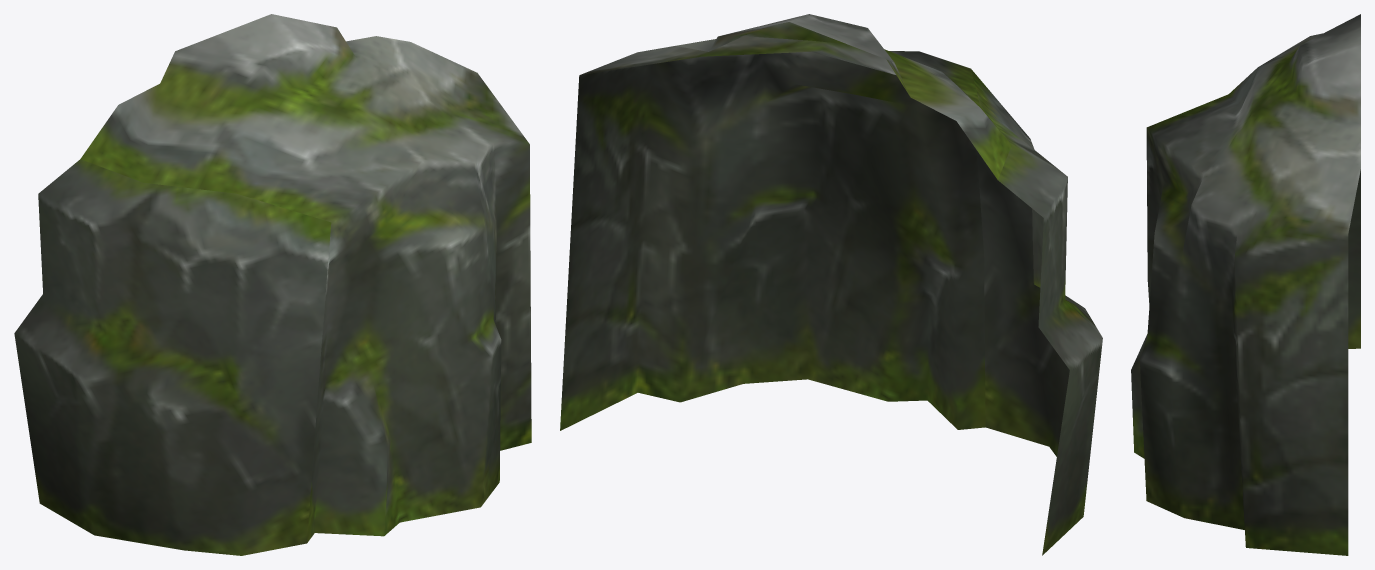
File: shitou10_01.FBX
3 views of the same model, side by side, from view 1: azimuth 30°, elevation 25°; view 2: azimuth 150°, elevation 25°; view 3: azimuth 270°, elevation 25° (orthographic). The views are drawn at different scales.
Parts seen in each view (by area): view 1: shitou10_01; view 2: shitou10_01; view 3: shitou10_01.
Part boxes in pixels (x1=…): shitou10_01: x1=14, y1=14, x2=531, y2=555; shitou10_01: x1=560, y1=14, x2=1102, y2=555; shitou10_01: x1=1131, y1=14, x2=1360, y2=555.
Size of the model in its own units: 384 by 336 by 170.
Materials: 1 (1 with a texture image).
